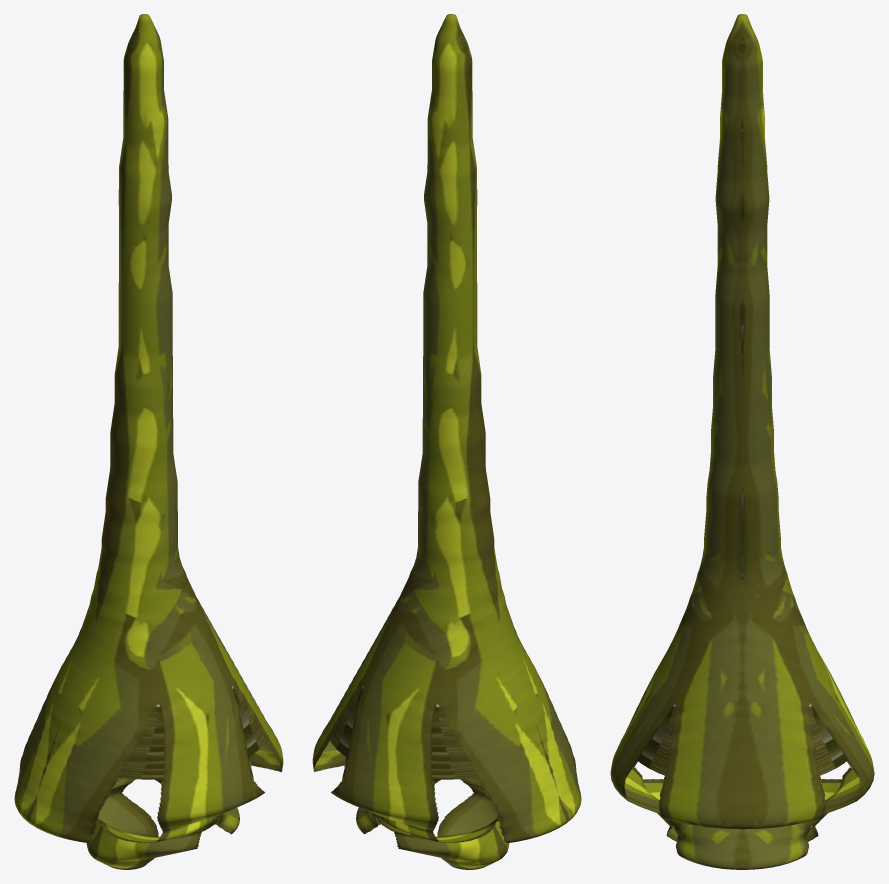
File: stilt_tree.glb
3 renders of one model, left to right at view 1: azimuth 30°, elevation 25°; view 2: azimuth 150°, elevation 25°; view 3: azimuth 270°, elevation 25°, orthographic.
Visible parts, largest first — view 1: stilt_tree; view 2: stilt_tree; view 3: stilt_tree.
Boxes of the visible parts, box(x1,y1,x2,y2) form: stilt_tree: box(14, 14, 283, 869); stilt_tree: box(312, 14, 581, 869); stilt_tree: box(610, 14, 874, 869).
Size of the model in its own units: 0.9682 by 3.28 by 0.9274.
1 material, 1 textured.
